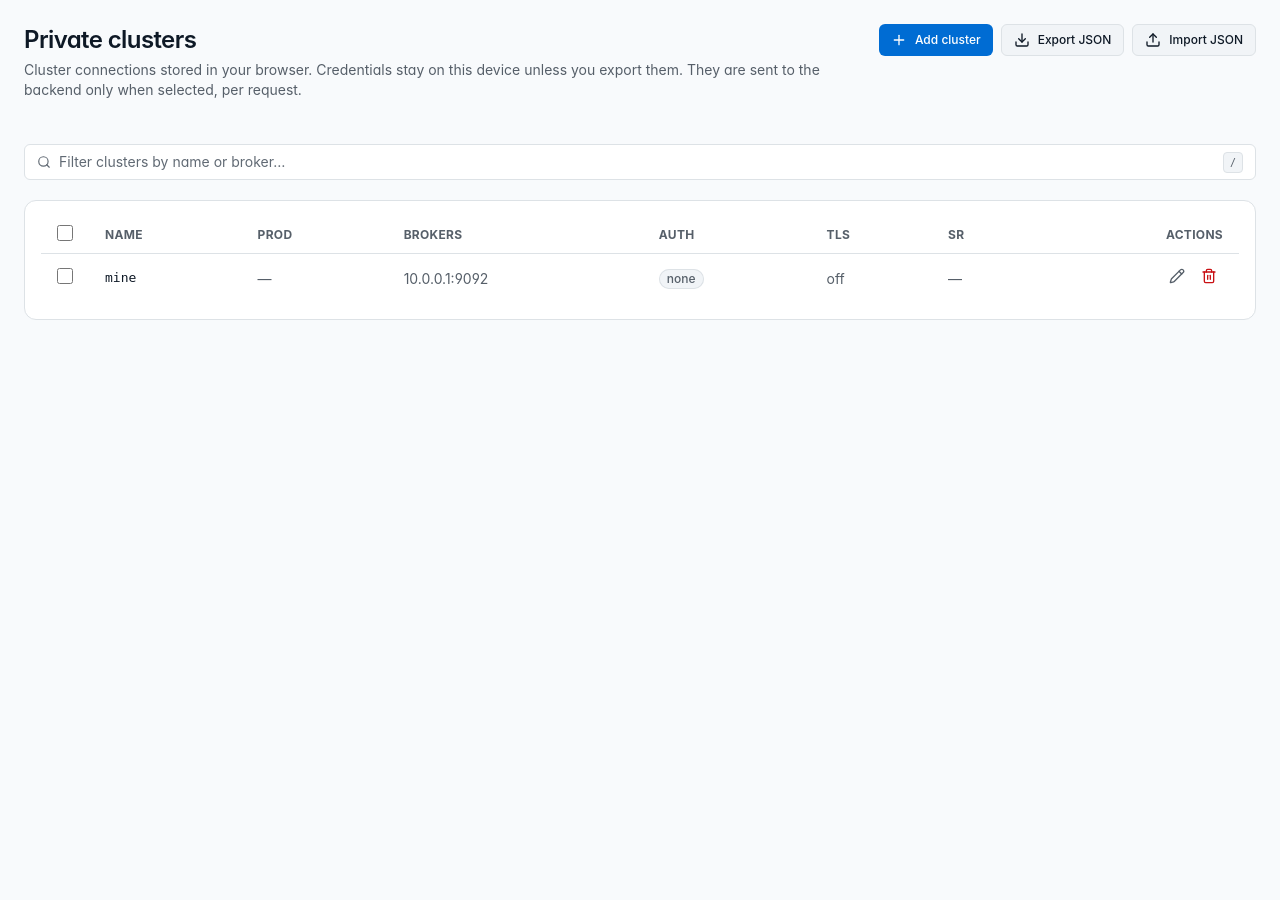
Test: private cluster settings when the server allows them › offers every action in mode on
Expected: the button "Import JSON" is enabled, [1132, 24, 1256, 56]
Click the button "Add cluster" at (936, 40), box [879, 24, 993, 56]
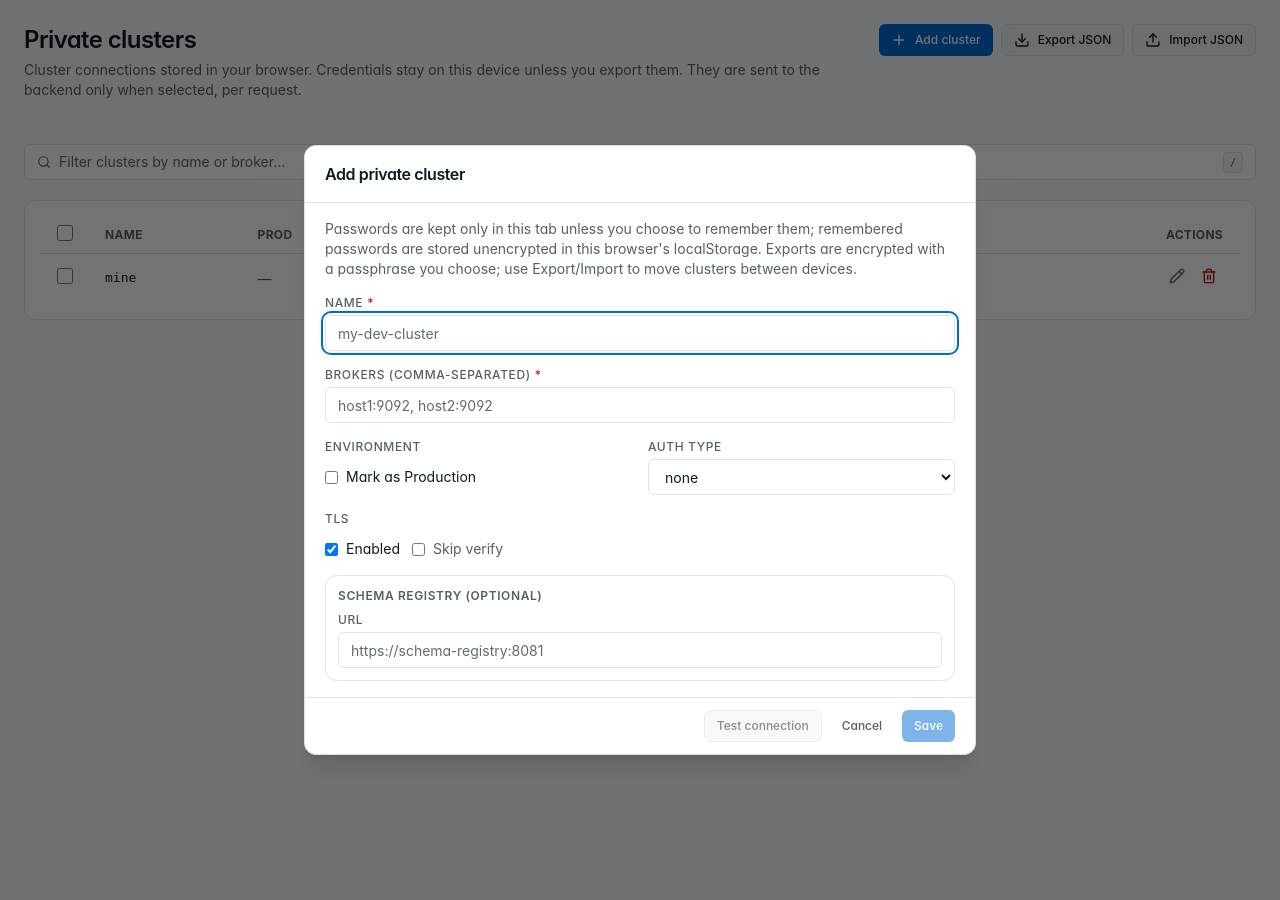
Type "dev" into the field with placeholder "my-dev-cluster" at (640, 333), box [325, 315, 955, 351]
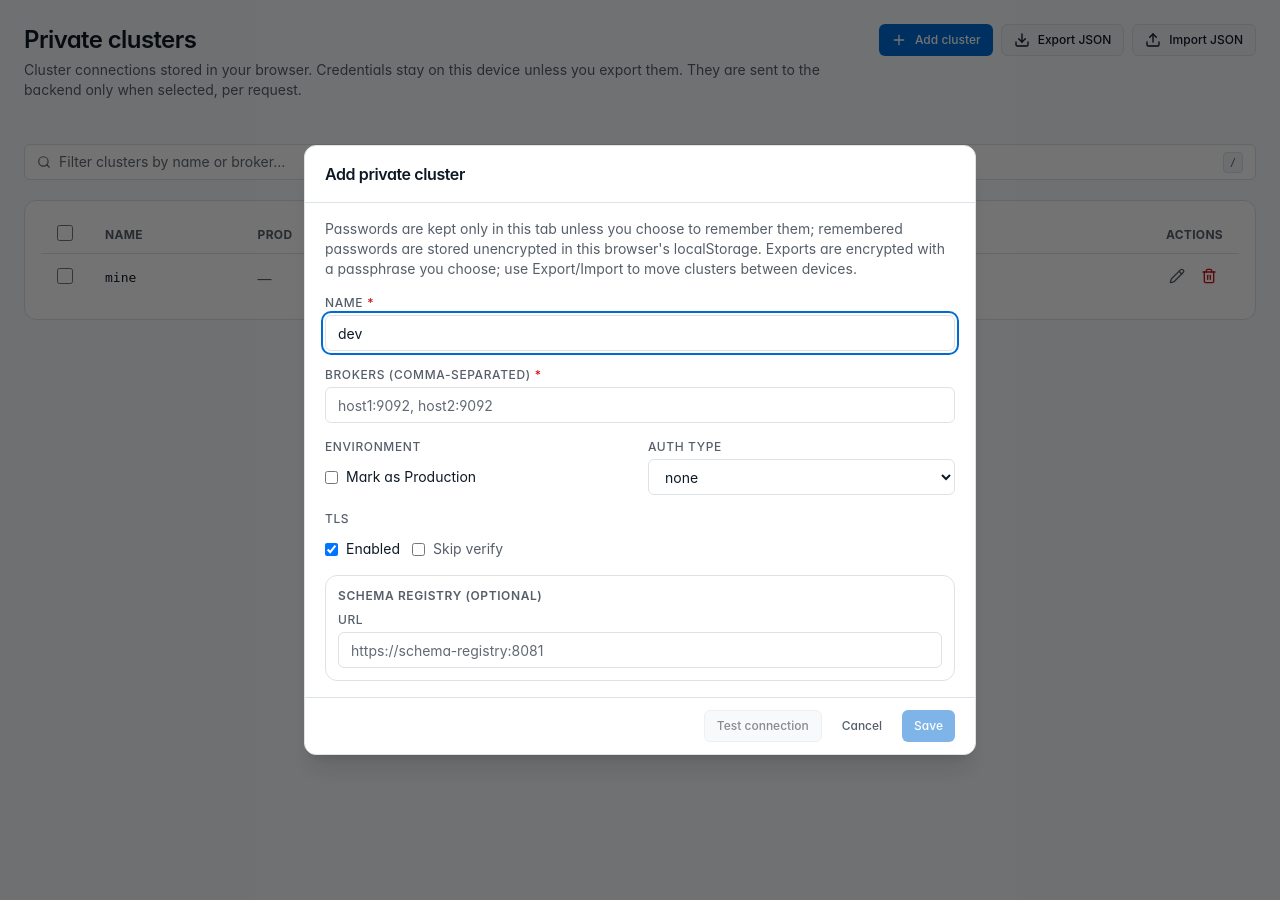
Type "10.0.0.2:9092" into the field with placeholder "host1:9092, host2:9092" at (640, 405), box [325, 387, 955, 423]
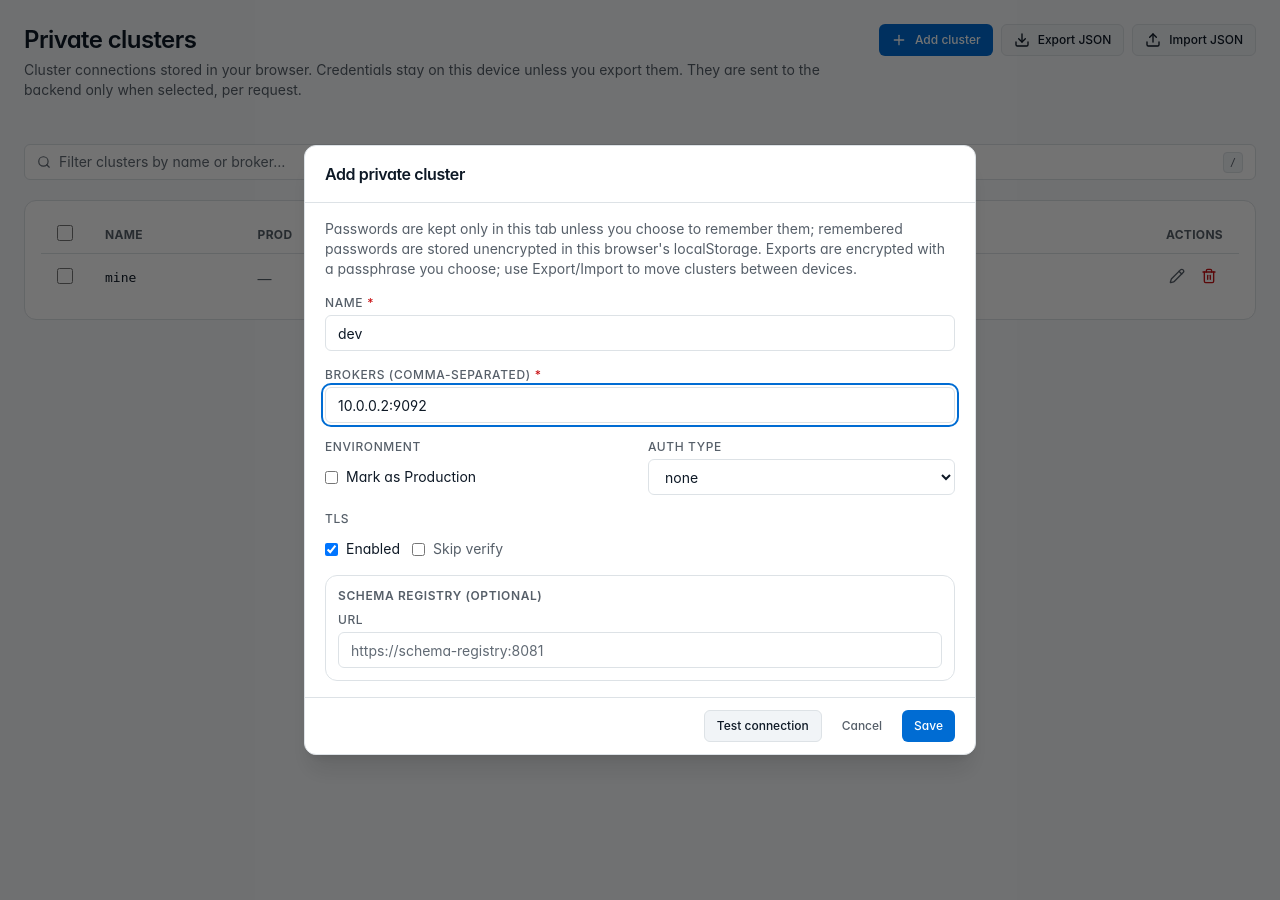
Expected: the button "Test connection" is enabled, [704, 710, 822, 742]
